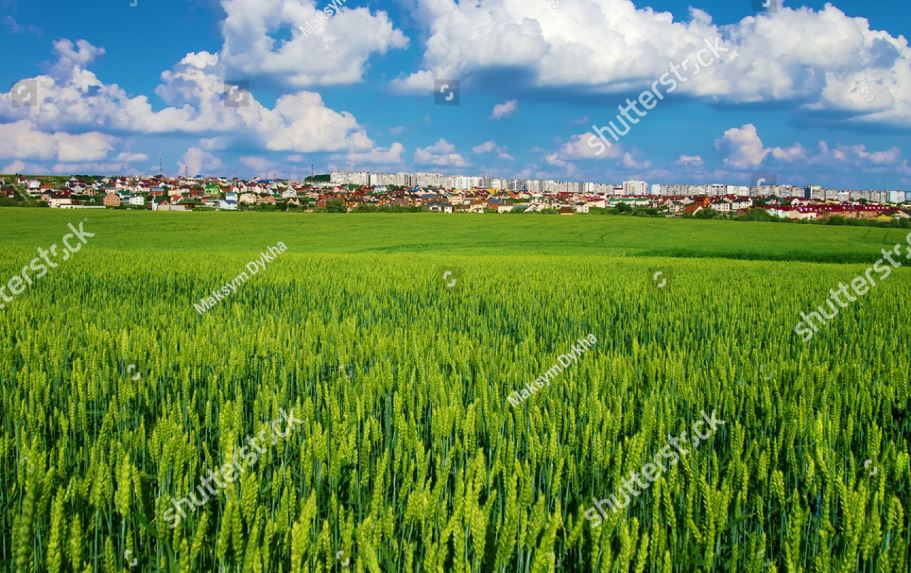Wheat: (26, 362, 499, 571)
